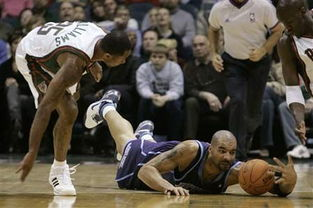10+: (1, 1, 313, 193)
down: (83, 87, 300, 199)
